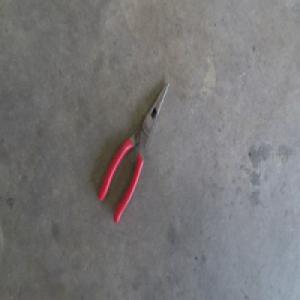Pliers: (98, 79, 171, 223)
